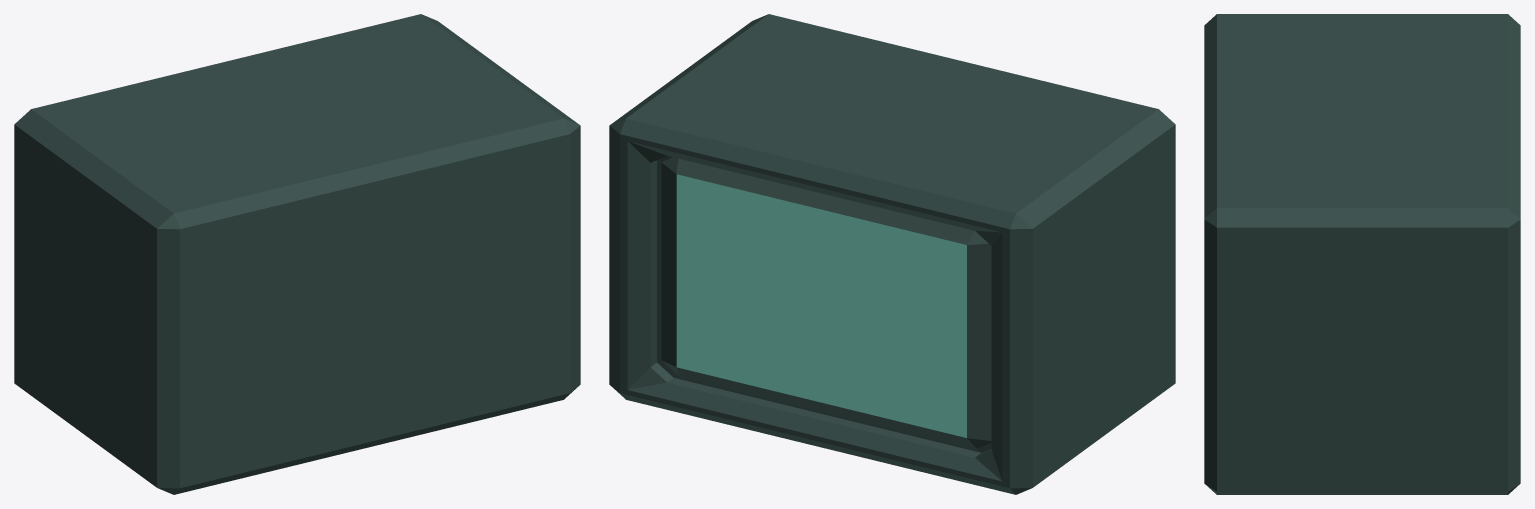
The model's file is G477Proj2Clock.fbx.
3 renders of one model, left to right at view 1: azimuth 30°, elevation 25°; view 2: azimuth 150°, elevation 25°; view 3: azimuth 270°, elevation 25°, orthographic.
Parts seen in each view (by area): view 1: Cube.007; view 2: Cube.007; view 3: Cube.007.
Part boxes in pixels (<box>): Cube.007: <box>14,14,580,494</box>; Cube.007: <box>609,14,1175,494</box>; Cube.007: <box>1204,14,1520,494</box>.
Size of the model in its own units: 36.07 by 22.9 by 22.87.
